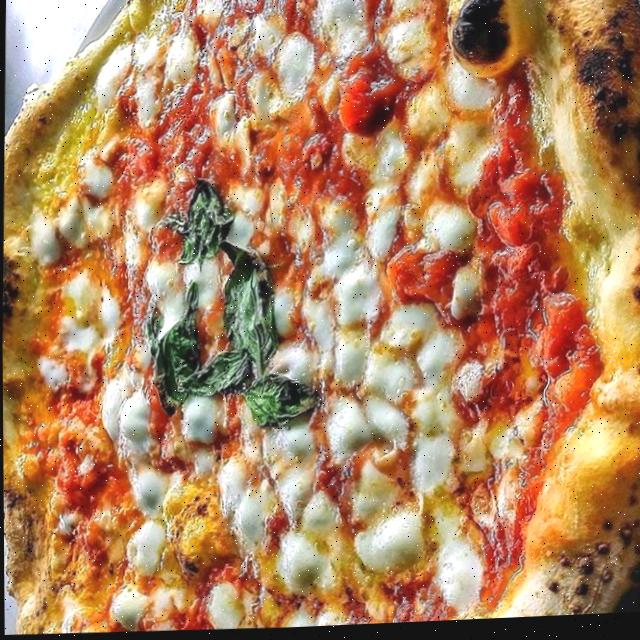basil: (169, 237, 287, 401), (149, 175, 240, 270), (139, 281, 202, 416), (231, 371, 326, 433)
pizza: (0, 0, 640, 640)
